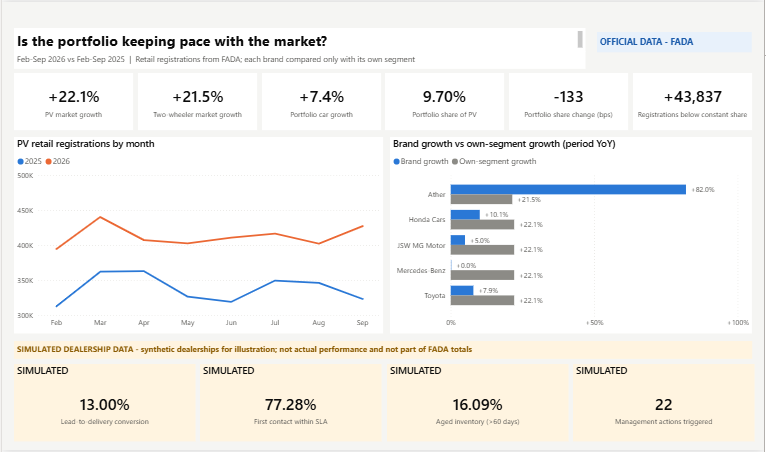

This screenshot's page, from the dashboard's own definition file:
{"tool":"powerbi","page":{"name":"Executive Overview","canvas":[1280,720],"ordinal":0},"visuals":[{"type":"textbox","box":[20,10,960,40],"z":1000},{"type":"textbox","box":[20,48,960,30],"z":2000},{"type":"textbox","box":[1000,16,260,34],"z":3000},{"type":"card","fields":{"Values":["_Measures.Market YoY Growth % (Period)"]},"box":[20,86,200,96],"z":4000},{"type":"card","fields":{"Values":["_Measures.Market YoY Growth % (Period)"]},"box":[228,86,200,96],"z":5000},{"type":"card","fields":{"Values":["_Measures.Portfolio Car YoY Growth %"]},"box":[436,86,200,96],"z":6000},{"type":"card","fields":{"Values":["_Measures.Portfolio Car Share CP %"]},"box":[644,86,200,96],"z":7000},{"type":"card","fields":{"Values":["_Measures.Portfolio Car Share Change bps"]},"box":[852,86,200,96],"z":8000},{"type":"card","fields":{"Values":["_Measures.Portfolio Car Registration Gap"]},"box":[1060,86,200,96],"z":9000},{"type":"lineChart","title":"PV retail registrations by month","fields":{"Category":["DimDate.MonthShortName"],"Series":["DimDate.YearNumber"],"Y":["_Measures.Market Registrations"]},"box":[20,194,620,330],"z":10000},{"type":"clusteredBarChart","title":"Brand growth vs own-segment growth (period YoY)","fields":{"Category":["DimOEM.PortfolioBrand"],"Y":["_Measures.YoY Growth % (Period)","_Measures.Segment YoY Growth % (Period)"]},"box":[652,194,608,330],"z":11000},{"type":"textbox","box":[20,536,1240,30],"z":12000},{"type":"card","title":"SIMULATED","fields":{"Values":["_Measures.Lead to Delivery %"]},"box":[20,574,305,130],"z":13000},{"type":"card","title":"SIMULATED","fields":{"Values":["_Measures.First Contact SLA %"]},"box":[333,574,305,130],"z":14000},{"type":"card","title":"SIMULATED","fields":{"Values":["_Measures.Aged Inventory %"]},"box":[646,574,305,130],"z":15000},{"type":"card","title":"SIMULATED","fields":{"Values":["_Measures.Actions Triggered"]},"box":[959,574,305,130],"z":16000}]}

Visuals, with their boxes on the page's 1280x720 design canvas (x1, y1, x2, y2). These are canvas units, not pixel positions in the 766x452 screenshot, which may show the page scaled, cropped or inside an application window:
textbox: box(20, 10, 980, 50)
textbox: box(20, 48, 980, 78)
textbox: box(1000, 16, 1260, 50)
card - _Measures.Market YoY Growth % (Period): box(20, 86, 220, 182)
card - _Measures.Market YoY Growth % (Period): box(228, 86, 428, 182)
card - _Measures.Portfolio Car YoY Growth %: box(436, 86, 636, 182)
card - _Measures.Portfolio Car Share CP %: box(644, 86, 844, 182)
card - _Measures.Portfolio Car Share Change bps: box(852, 86, 1052, 182)
card - _Measures.Portfolio Car Registration Gap: box(1060, 86, 1260, 182)
"PV retail registrations by month" lineChart: box(20, 194, 640, 524)
"Brand growth vs own-segment growth (period YoY)" clusteredBarChart: box(652, 194, 1260, 524)
textbox: box(20, 536, 1260, 566)
"SIMULATED" card: box(20, 574, 325, 704)
"SIMULATED" card: box(333, 574, 638, 704)
"SIMULATED" card: box(646, 574, 951, 704)
"SIMULATED" card: box(959, 574, 1264, 704)
